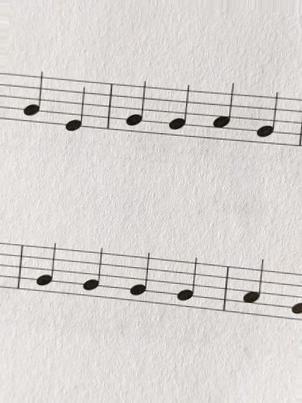note: (237, 253, 266, 326), (208, 80, 238, 149), (124, 250, 154, 312), (19, 68, 49, 129), (253, 88, 282, 151), (63, 73, 91, 137), (77, 246, 109, 298), (173, 255, 199, 316), (33, 239, 60, 294), (165, 83, 191, 139), (124, 78, 148, 135)
